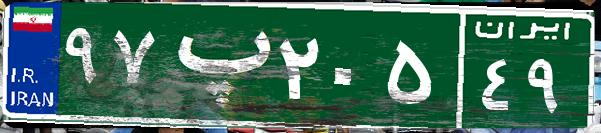0: (330, 28, 385, 110)
2: (273, 28, 330, 110)
4: (475, 38, 525, 113)
5: (385, 28, 445, 110)
7: (110, 28, 158, 105)
9: (57, 26, 110, 107), (525, 38, 570, 115)
پ: (158, 15, 273, 115)
